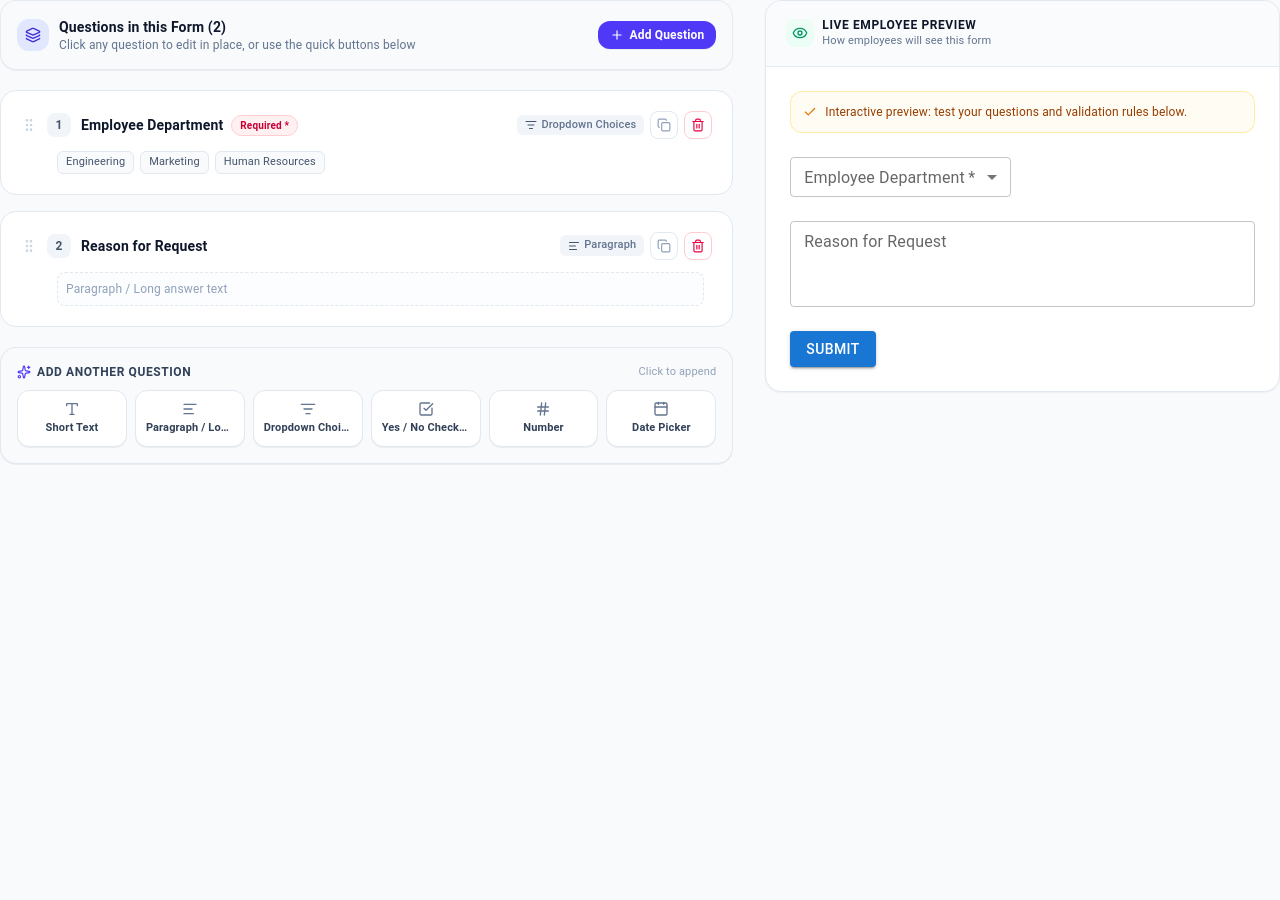
Test: SchemaBuilder Component › allows managing choices for dropdown questions
Click the text "Employee Department" at coordinates (152, 125), box [81, 115, 223, 135]
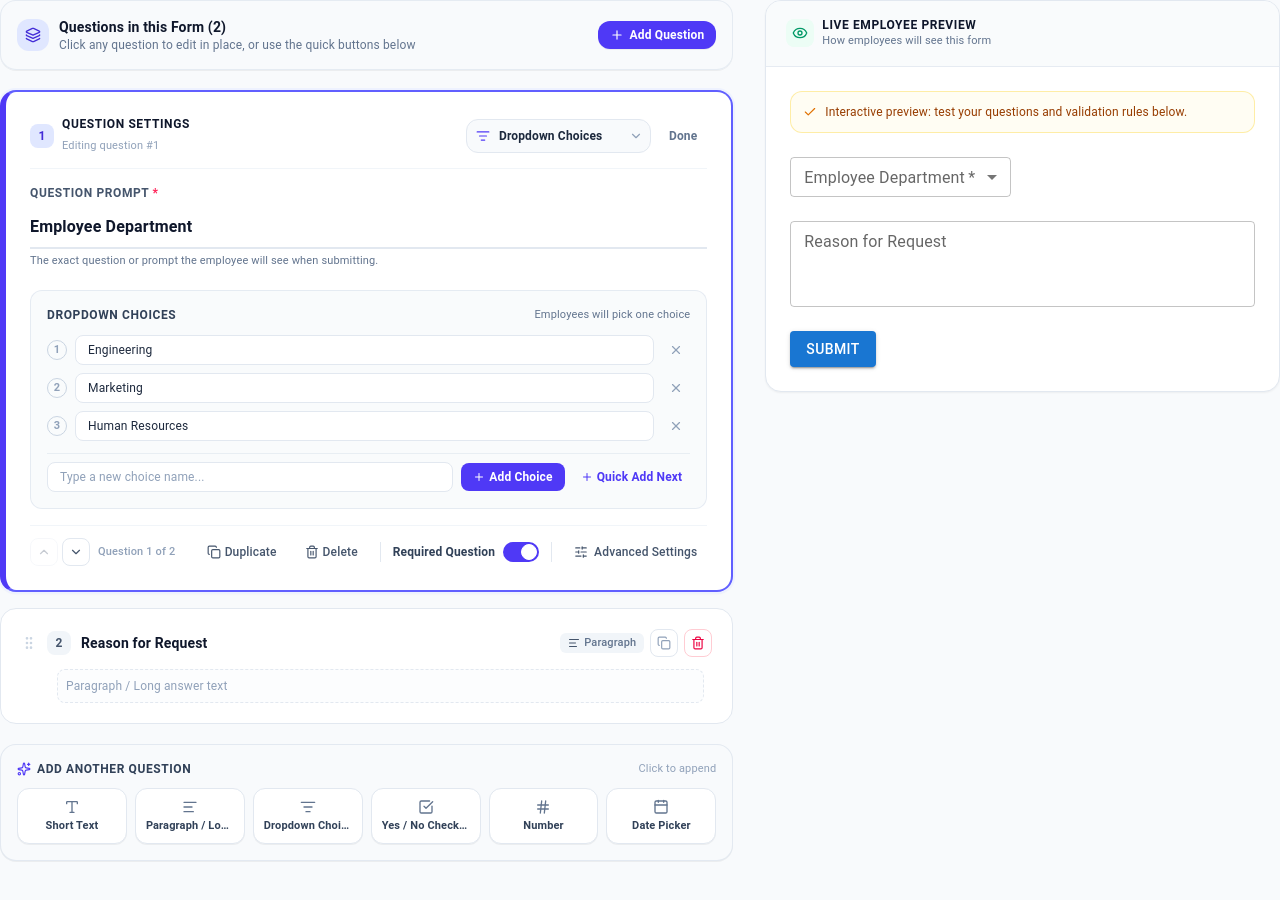
Check: the 2nd field showing "Engineering" is shown, box [75, 335, 654, 365]
Check: the 3rd field showing "Marketing" is shown, box [75, 373, 654, 403]
# Add a new choice
Type "Finance" into the field with placeholder "Type a new choice name..." at coordinates (250, 477), box [47, 462, 453, 492]
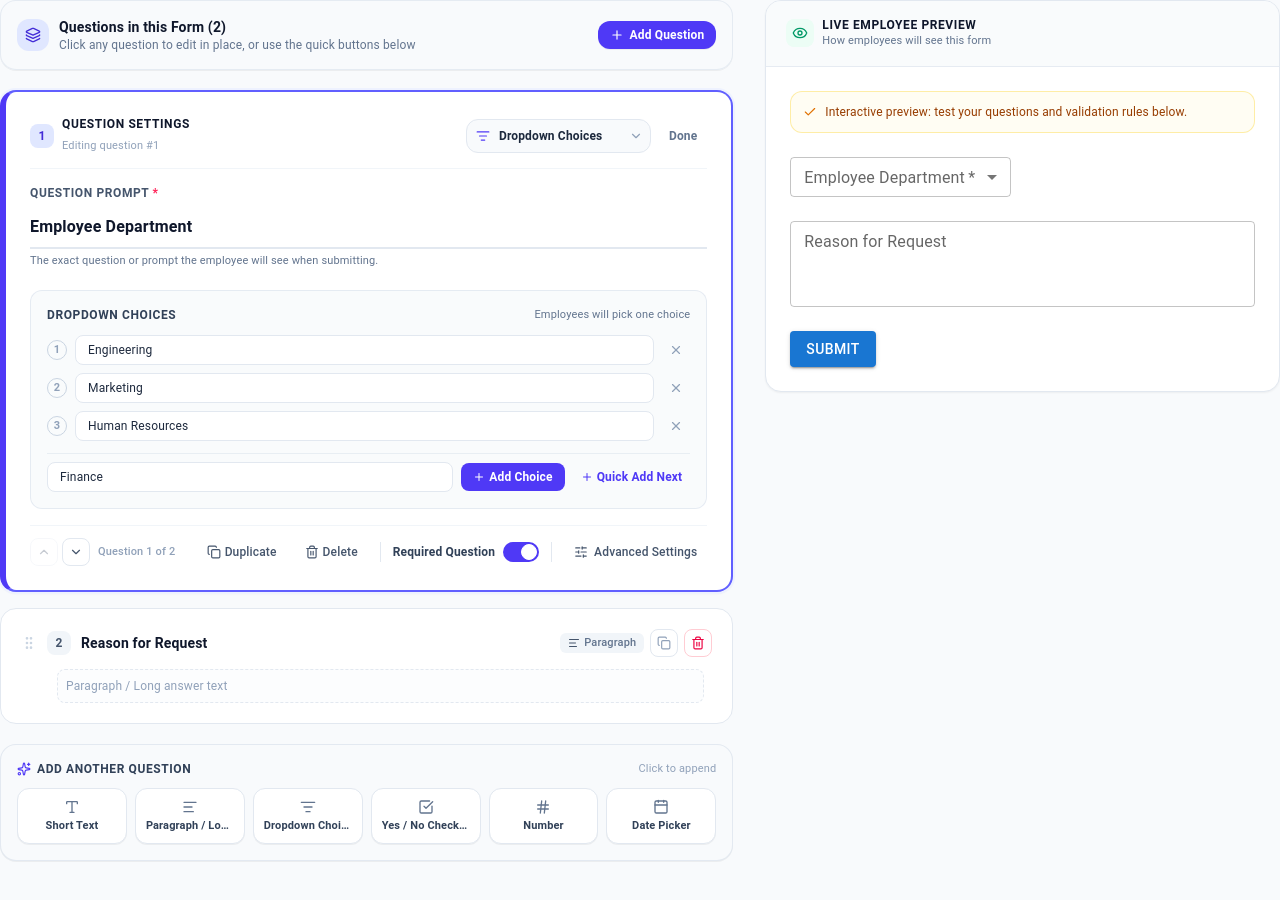
Click the button "Add Choice" at coordinates (513, 477), box [461, 463, 565, 491]
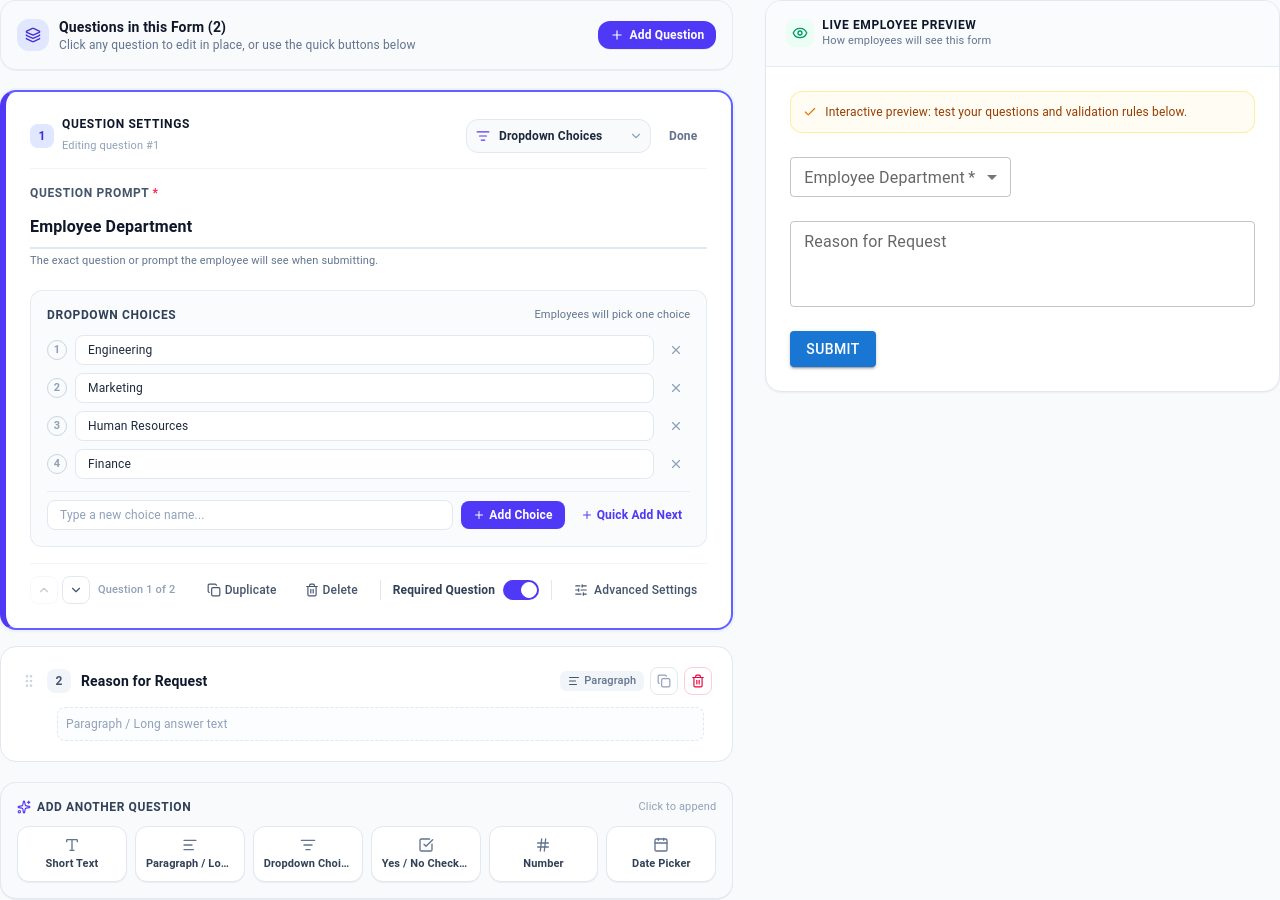
Check: the 5th field showing "Finance" is shown, box [75, 449, 654, 479]
